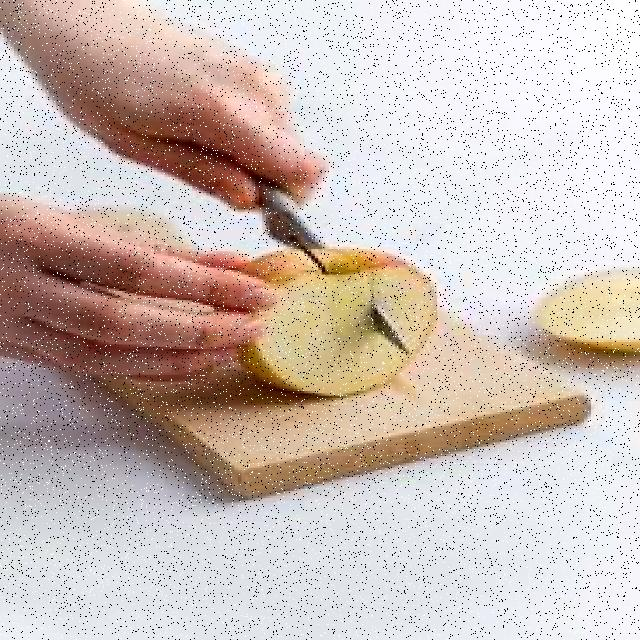Apple: (237, 248, 436, 400), (526, 260, 638, 361)
